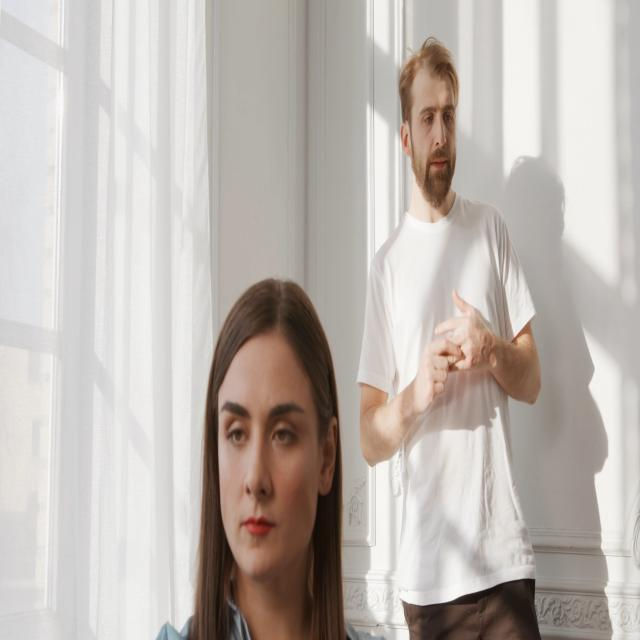Thinking: (388, 27, 480, 206)
angry: (210, 316, 342, 594)
